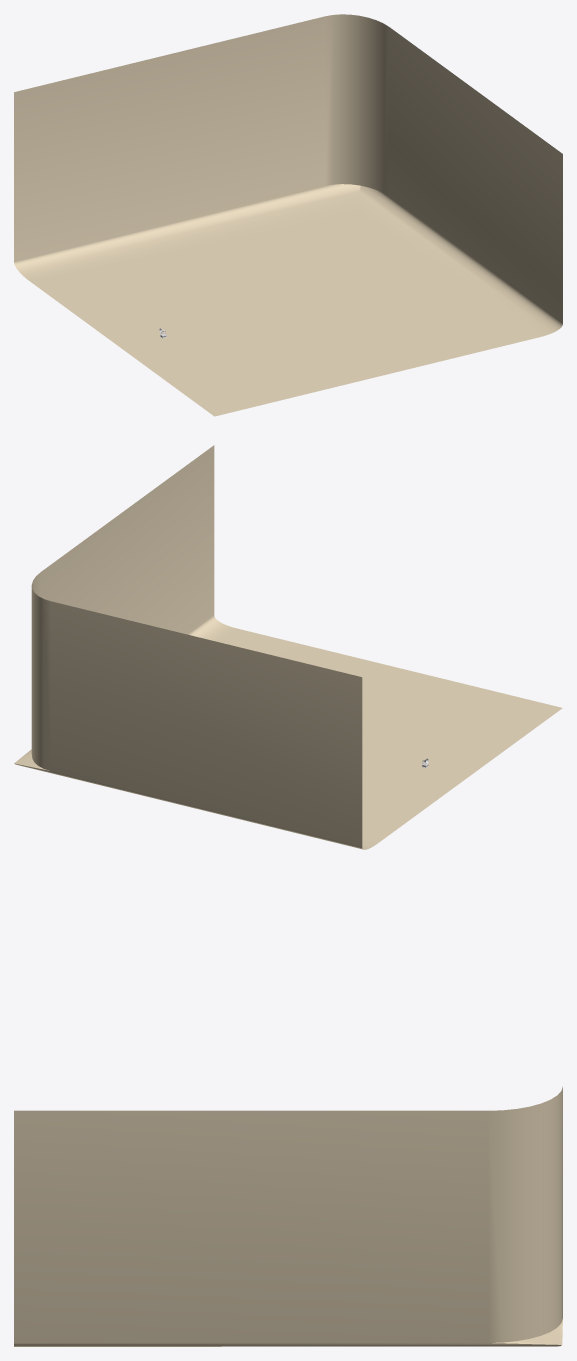
File: uploads_files_2915691_gramophone.fbx
3 views of the same model, one above another, from view 1: azimuth 30°, elevation 25°; view 2: azimuth 150°, elevation 25°; view 3: azimuth 270°, elevation 25° (orthographic). The views are drawn at different scales.
Parts seen in each view (by area): view 1: Cube.001; view 2: Cube.001; view 3: Cube.001.
Part boxes in pixels (x1,y1,x2,y2): Cube.001: [14, 14, 562, 416]; Cube.001: [14, 445, 562, 849]; Cube.001: [14, 1086, 562, 1346].
Size of the model in its own units: 17639 by 8590 by 17587.
